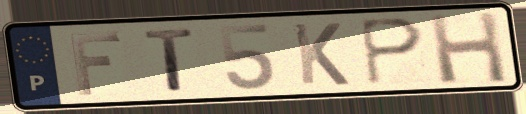5: (216, 22, 278, 92)
F: (66, 30, 125, 98)
H: (424, 8, 511, 86)
K: (289, 21, 353, 88)
P: (355, 16, 427, 88)
T: (141, 26, 199, 94)
